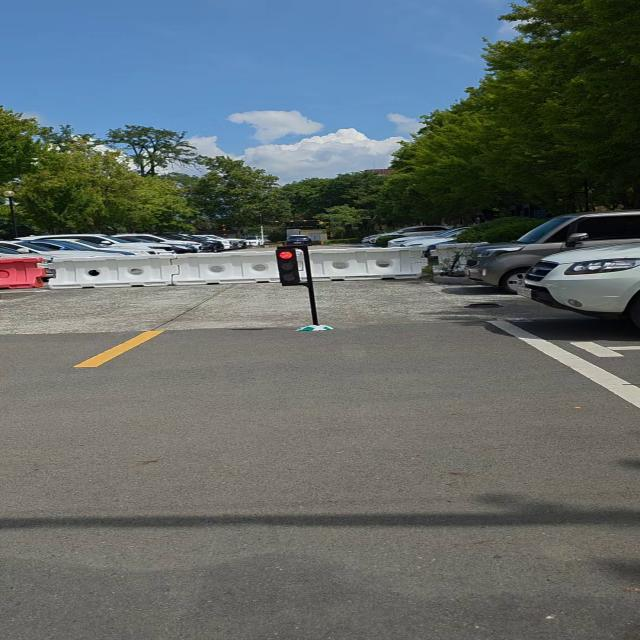red: (273, 245, 308, 287)
